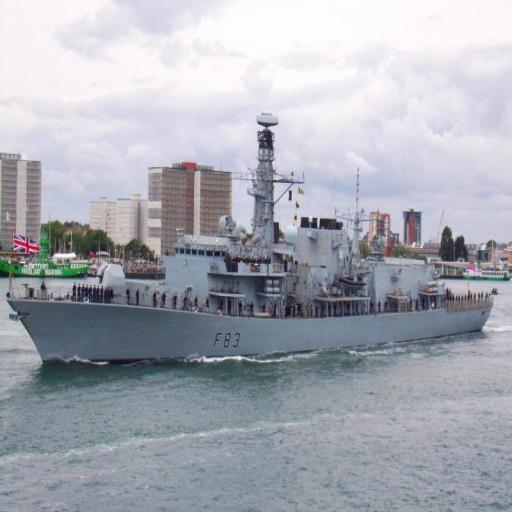Fragata: (6, 108, 500, 384)
